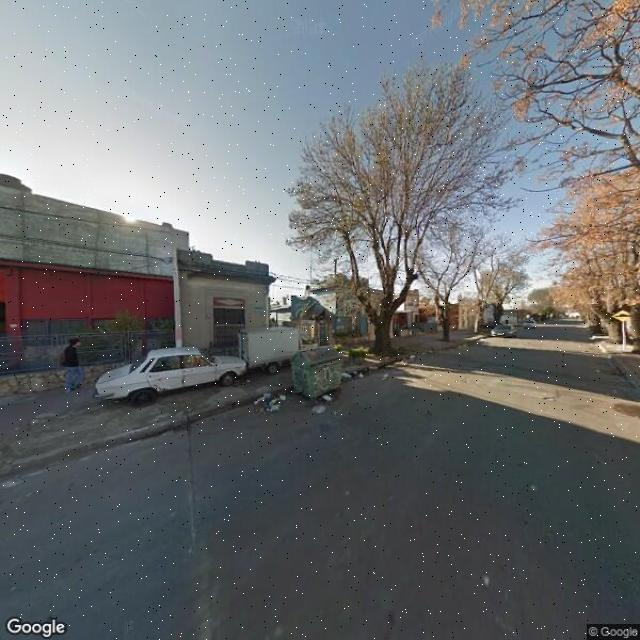garbage container: (285, 342, 354, 407)
